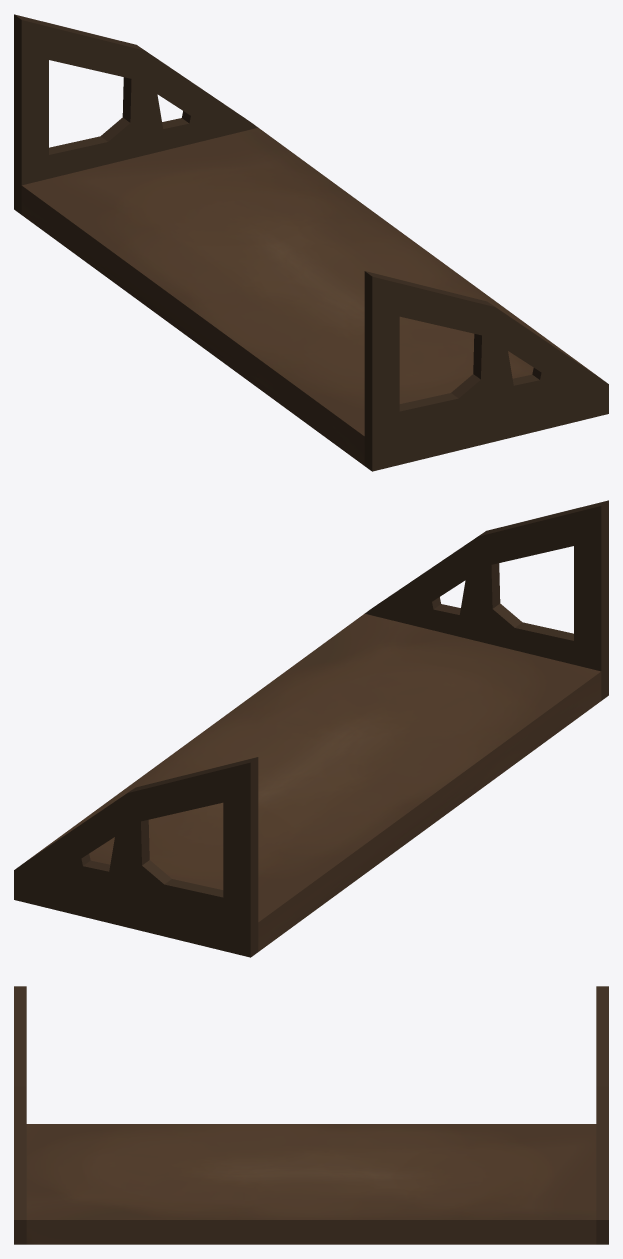
Rendered from Repisa.fbx.
3 views of the same model, one above another, from view 1: azimuth 30°, elevation 25°; view 2: azimuth 150°, elevation 25°; view 3: azimuth 270°, elevation 25° (orthographic). The views are drawn at different scales.
Parts seen in each view (by area): view 1: Cube; view 2: Cube; view 3: Cube.
Part boxes in pixels (x1=…): Cube: x1=14, y1=14, x2=608, y2=471; Cube: x1=14, y1=500, x2=608, y2=957; Cube: x1=14, y1=986, x2=608, y2=1244.
Bounding box in the file's own units: 135 × 106 × 354.
